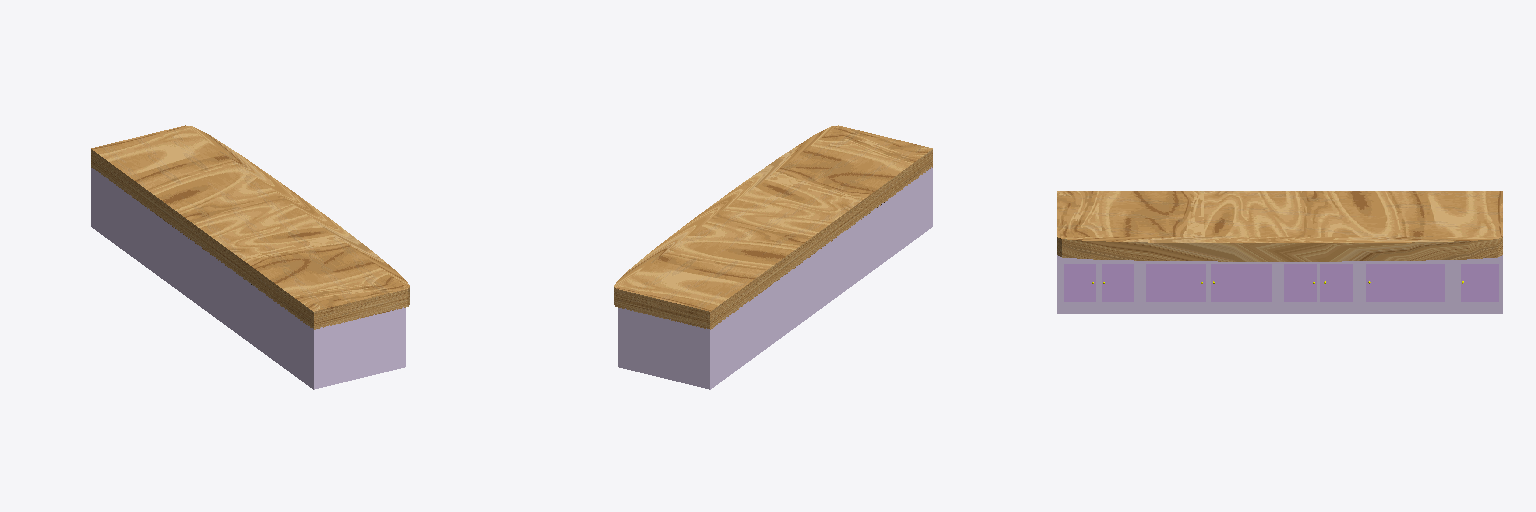
The picture shows the model from 3 angles: view 1: azimuth 30°, elevation 25°; view 2: azimuth 150°, elevation 25°; view 3: azimuth 270°, elevation 25°; orthographic projection.
Parts seen in each view (by area): view 1: polySurface46; view 2: polySurface46; view 3: polySurface46.
Boxes of the visible parts, x1,y1,x2,y2 form: polySurface46: [91, 125, 409, 389]; polySurface46: [614, 125, 932, 389]; polySurface46: [1057, 191, 1502, 313].
Size of the model in its own units: 0.2443 by 0.1688 by 0.8744.
Materials: 18 (1 with a texture image).